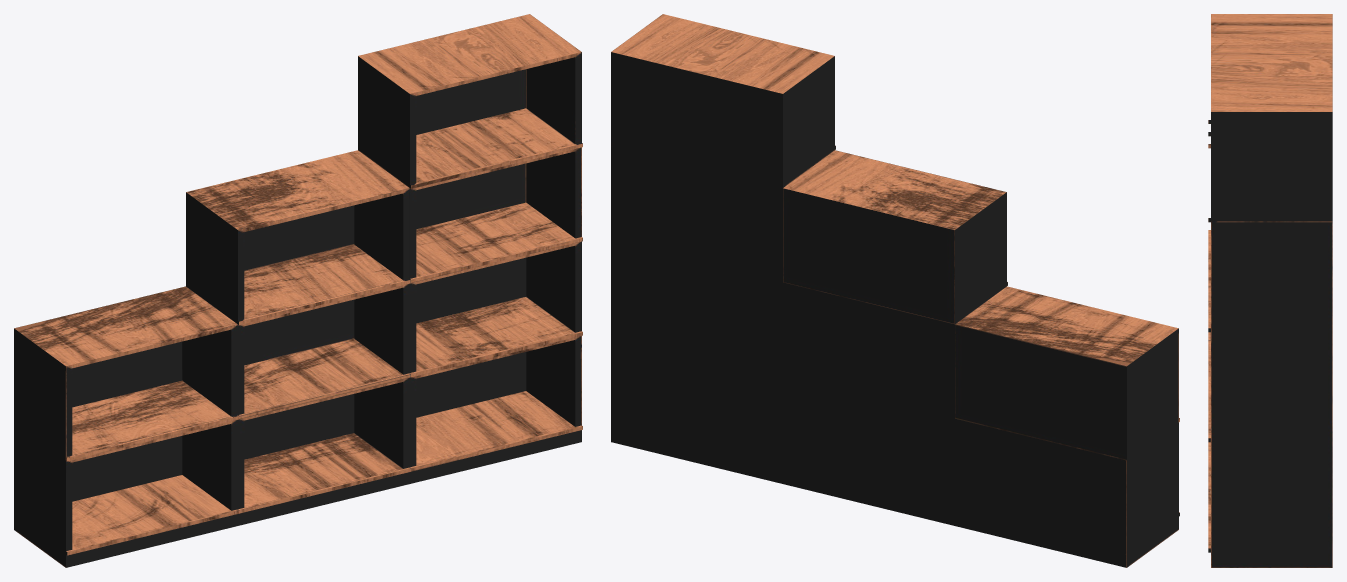
File: mueble_2.gltf
The picture shows the model from 3 angles, left to right: view 1: azimuth 30°, elevation 25°; view 2: azimuth 150°, elevation 25°; view 3: azimuth 270°, elevation 25°; orthographic projection. The views are drawn at different scales.
Visible parts, largest first — view 1: mueble_v2; view 2: mueble_v2; view 3: mueble_v2.
Boxes of the visible parts, <box> form: mueble_v2: <box>14,14,582,567</box>; mueble_v2: <box>611,14,1179,567</box>; mueble_v2: <box>1208,14,1332,567</box>.
Size of the model in its own units: 0.9141 by 0.6605 by 0.1631.
Materials: 1 (1 with a texture image).
